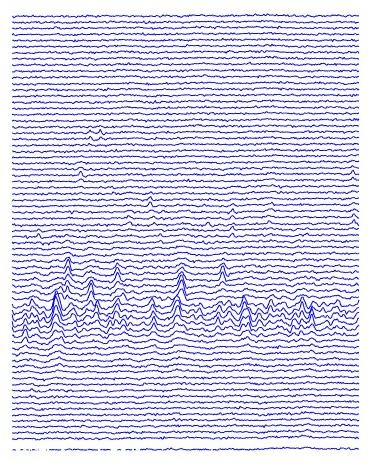defect: (106, 265, 130, 339), (166, 268, 190, 328), (80, 277, 104, 335), (286, 295, 318, 336), (321, 300, 359, 334), (47, 283, 65, 333), (235, 297, 258, 336), (141, 299, 161, 334), (58, 252, 76, 280), (342, 203, 359, 231), (227, 201, 238, 239), (81, 125, 104, 142), (343, 166, 361, 185), (74, 163, 86, 189), (220, 265, 232, 290)
